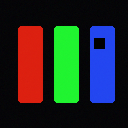1 square: (94, 38, 104, 48)
